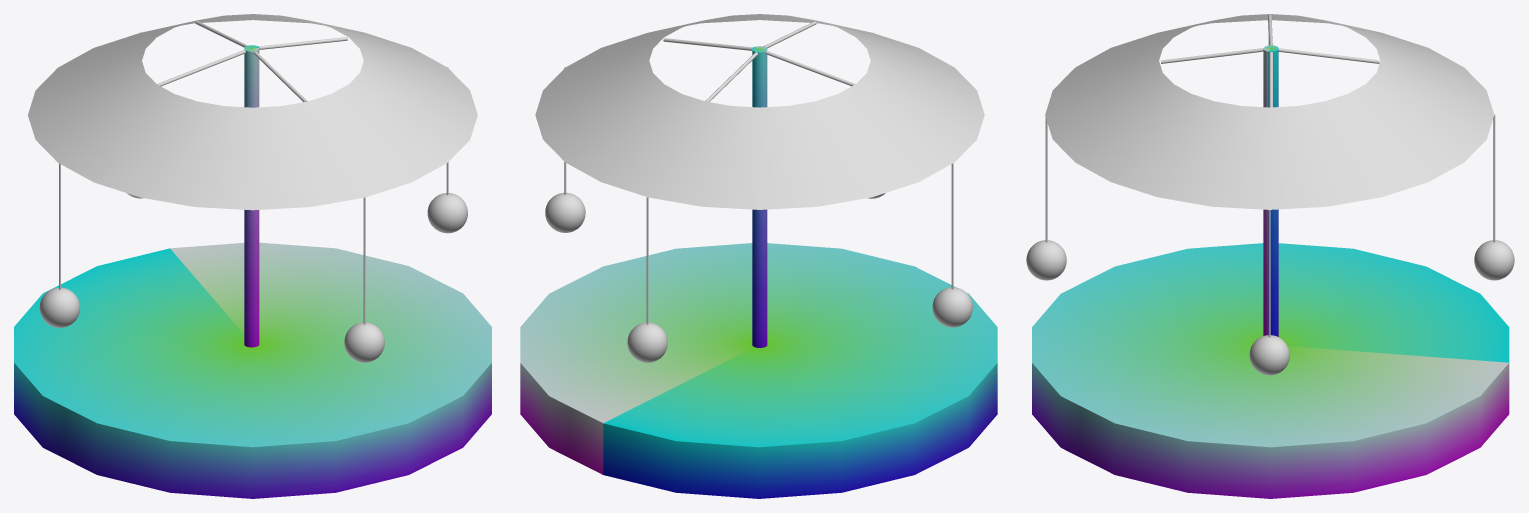
File: music box.DAE
3 views of the same model, side by side, from view 1: azimuth 30°, elevation 25°; view 2: azimuth 150°, elevation 25°; view 3: azimuth 270°, elevation 25° (orthographic).
Visible parts, largest first — view 1: Cylinder001, Cone001, central column, Sphere001, Sphere003, Sphere004; view 2: Cylinder001, Cone001, central column, Sphere002, Sphere004, Sphere003; view 3: Cylinder001, Cone001, central column, Sphere001, Sphere002, Sphere003.
Part boxes in pixels (bbox=[...]): Cylinder001: bbox=[14, 242, 491, 498]; Cone001: bbox=[28, 14, 477, 210]; central column: bbox=[244, 45, 259, 347]; Sphere001: bbox=[344, 322, 384, 362]; Sphere003: bbox=[427, 193, 467, 233]; Sphere004: bbox=[39, 287, 80, 327]; Cylinder001: bbox=[520, 243, 997, 498]; Cone001: bbox=[535, 14, 984, 209]; central column: bbox=[752, 46, 767, 347]; Sphere002: bbox=[627, 322, 667, 362]; Sphere004: bbox=[932, 287, 972, 327]; Sphere003: bbox=[545, 192, 585, 232]; Cylinder001: bbox=[1032, 243, 1509, 498]; Cone001: bbox=[1045, 14, 1494, 209]; central column: bbox=[1263, 45, 1278, 336]; Sphere001: bbox=[1026, 240, 1066, 280]; Sphere002: bbox=[1474, 240, 1514, 280]; Sphere003: bbox=[1249, 335, 1289, 375].
Size of the model in its own units: 28.59 by 22.49 by 28.64.
